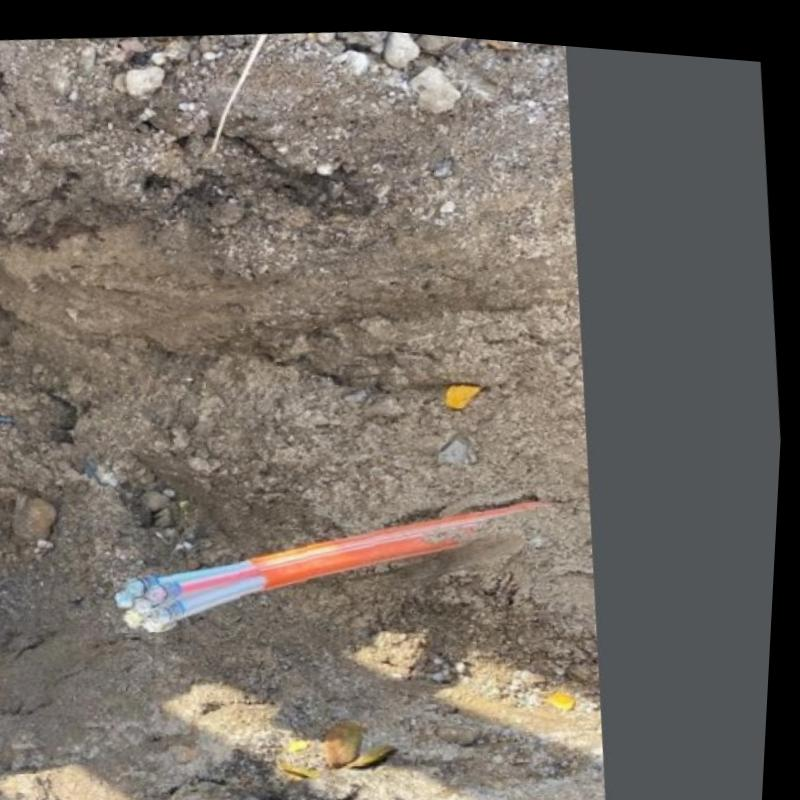Orang-Speednetrohrchen: (120, 490, 548, 629)
